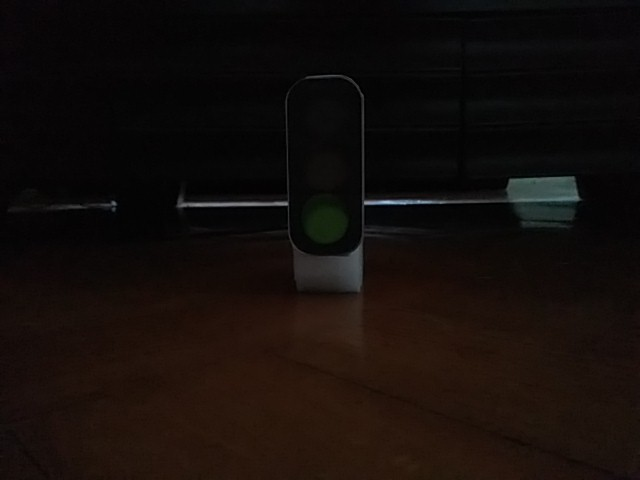Green Traffic Light: (286, 74, 365, 258)
